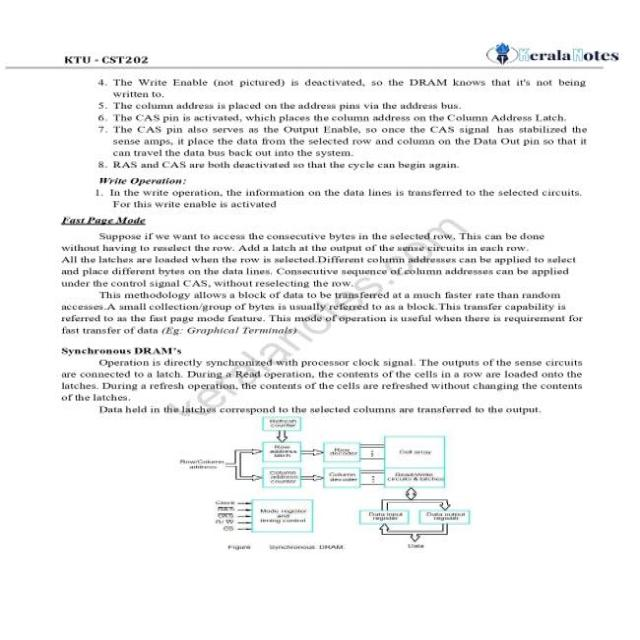Figure Detection - v3 Dataset Version2: (175, 413, 485, 556)
